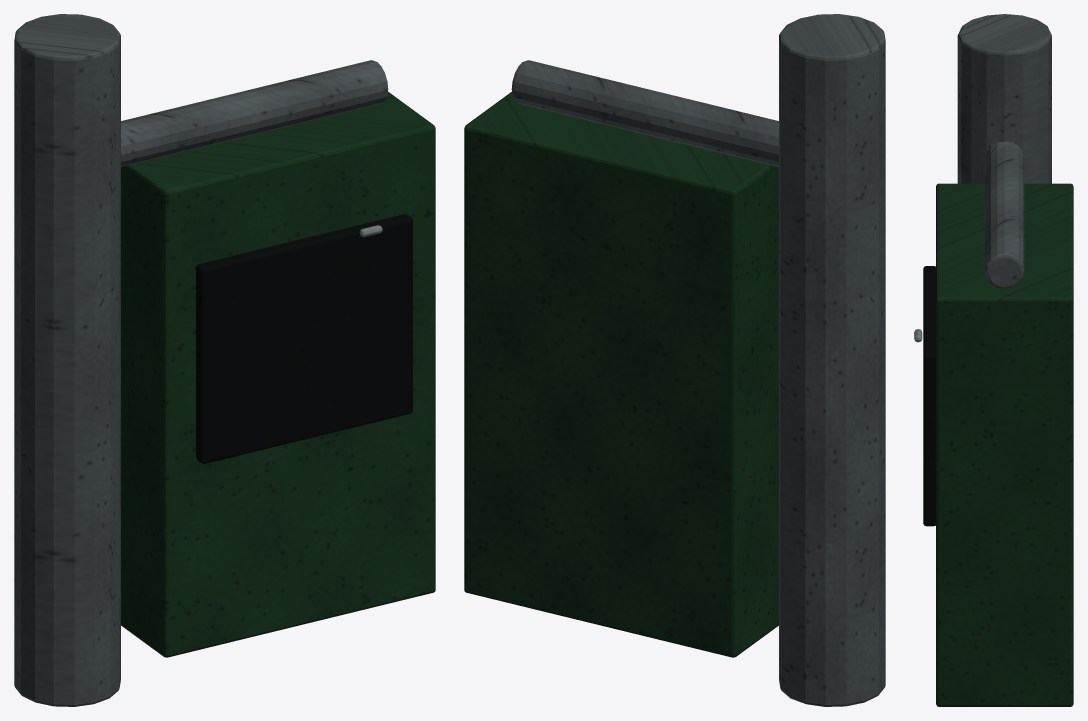
The model's file is PROP-63E86F575D7C_lod0.glb.
3 views of the same model, side by side, from view 1: azimuth 30°, elevation 25°; view 2: azimuth 150°, elevation 25°; view 3: azimuth 270°, elevation 25° (orthographic). The views are drawn at different scales.
Parts seen in each view (by area): view 1: cabinet, vent_stack, recessed_front, conduit; view 2: cabinet, vent_stack, conduit; view 3: cabinet, vent_stack, conduit, recessed_front.
Part boxes in pixels (x1=…): cabinet: x1=121, y1=92, x2=435, y2=657; vent_stack: x1=14, y1=14, x2=120, y2=706; recessed_front: x1=196, y1=214, x2=412, y2=463; conduit: x1=121, y1=60, x2=388, y2=166; cabinet: x1=464, y1=92, x2=778, y2=657; vent_stack: x1=779, y1=14, x2=885, y2=706; conduit: x1=511, y1=60, x2=778, y2=166; cabinet: x1=936, y1=183, x2=1073, y2=706; vent_stack: x1=957, y1=14, x2=1051, y2=183; conduit: x1=985, y1=141, x2=1024, y2=288; recessed_front: x1=923, y1=266, x2=935, y2=526.
Size of the model in its own units: 0.97 by 1.6 by 0.405.
Materials: 4 (4 with a texture image).
